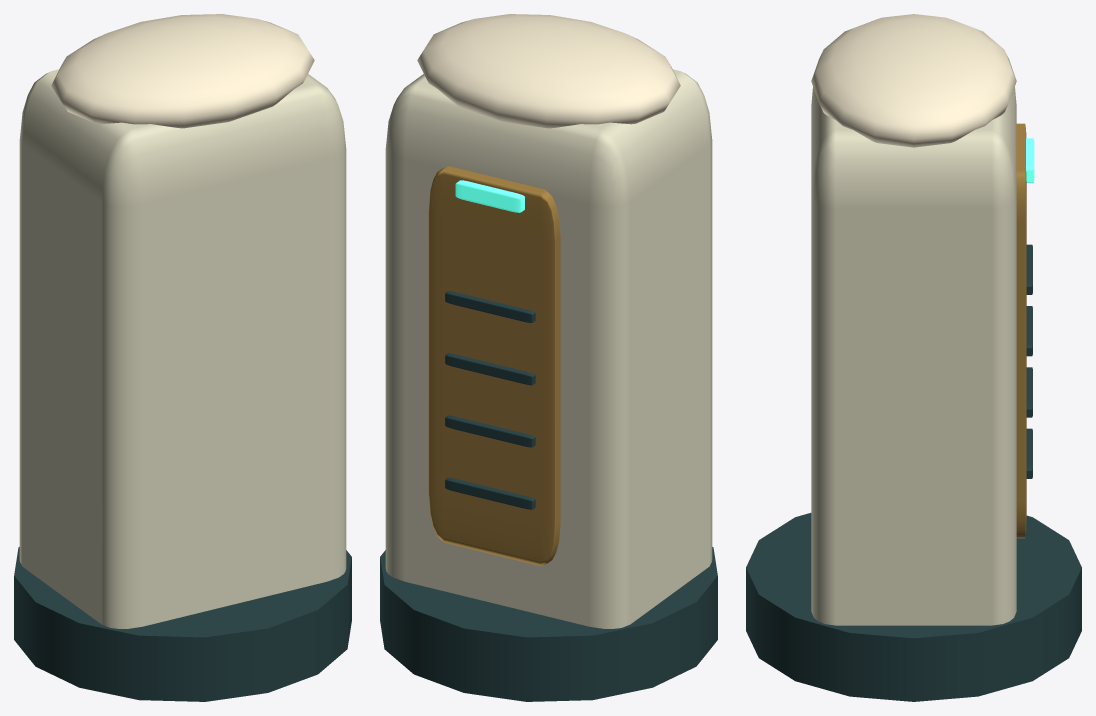
File: pylon.glb
The picture shows the model from 3 angles, left to right: view 1: azimuth 30°, elevation 25°; view 2: azimuth 150°, elevation 25°; view 3: azimuth 270°, elevation 25°; orthographic projection.
Parts seen in each view (by area): view 1: shell, base, cap; view 2: shell, panel, base, cap, vent (×4), lamp; view 3: shell, base, cap, panel.
Part boxes in pixels (x1=…): shell: x1=19, y1=69, x2=346, y2=628; base: x1=14, y1=547, x2=351, y2=701; cap: x1=51, y1=14, x2=314, y2=128; shell: x1=385, y1=69, x2=712, y2=628; panel: x1=428, y1=166, x2=560, y2=565; base: x1=380, y1=547, x2=717, y2=701; cap: x1=417, y1=14, x2=680, y2=128; vent (×4): x1=445, y1=291, x2=535, y2=509; lamp: x1=455, y1=180, x2=524, y2=212; shell: x1=811, y1=87, x2=1016, y2=625; base: x1=746, y1=513, x2=1081, y2=701; cap: x1=811, y1=14, x2=1016, y2=147; panel: x1=1016, y1=123, x2=1026, y2=538.
Bounding box in the file's own units: 1.34 × 2.57 × 1.34.
